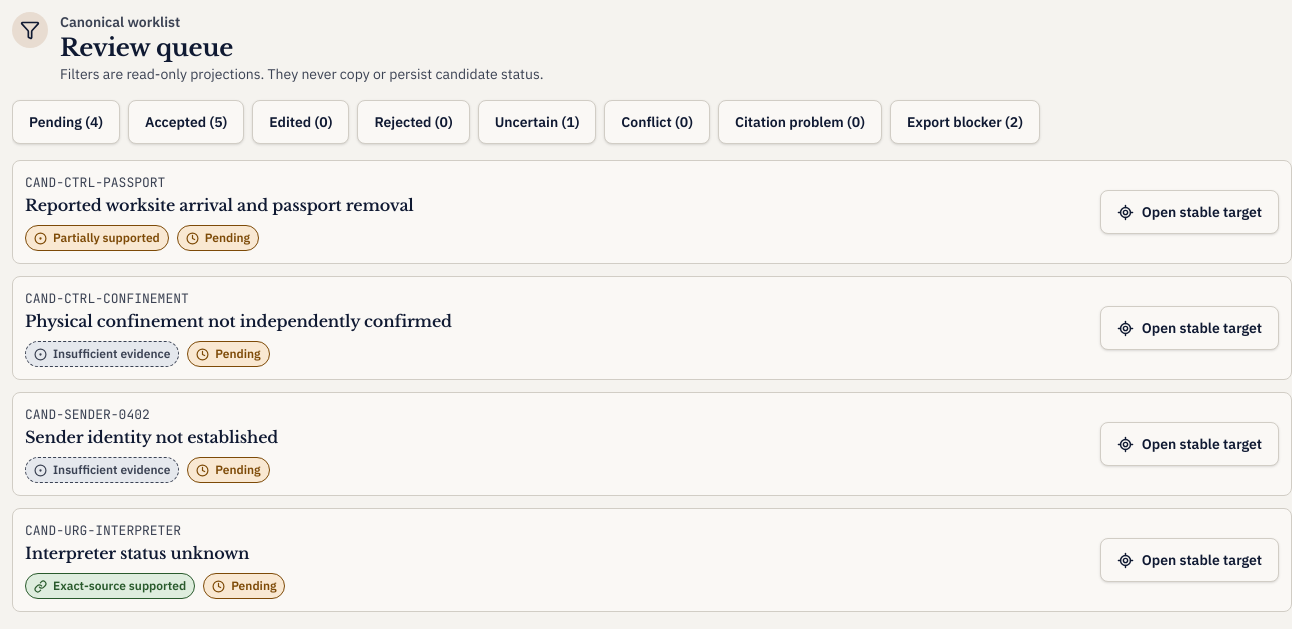
Test: TASK-021 review queue › shows an explicit empty filter state
Click the button "Edited (0)": point(301, 122) top-left (252, 100), bottom-right (349, 144)
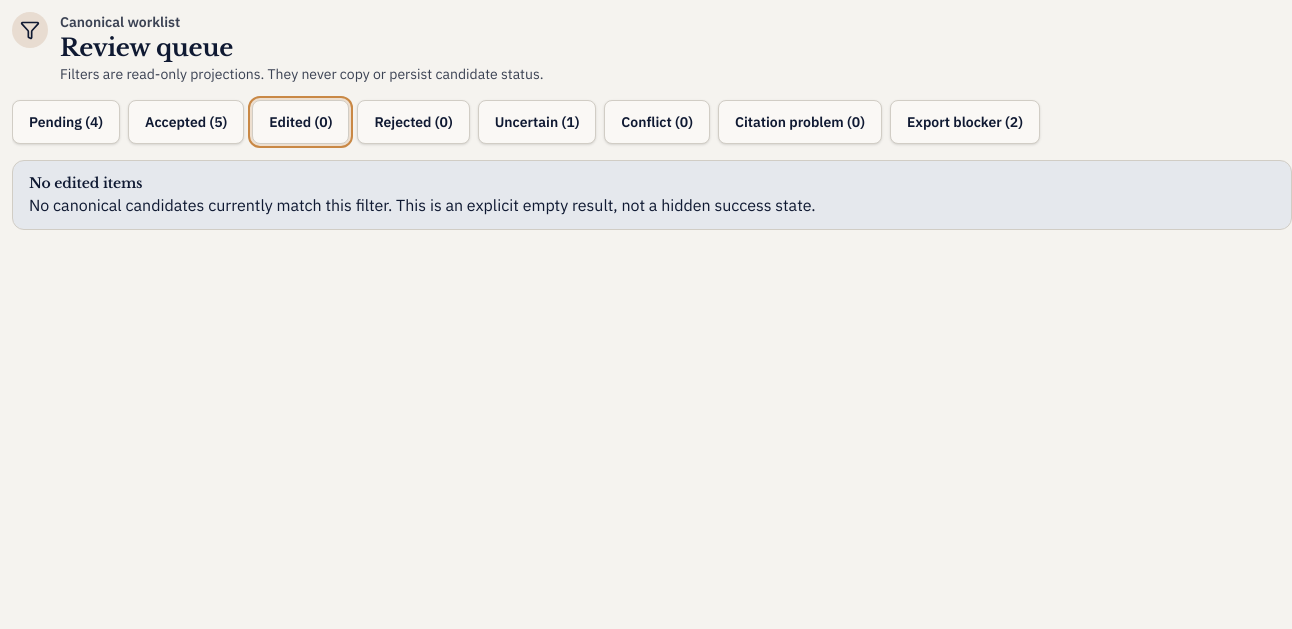
Expected: the heading "No edited items" is shown, top-left (29, 174), bottom-right (142, 192)
Expected: the text "explicit empty result" is shown, top-left (29, 195), bottom-right (816, 215)
